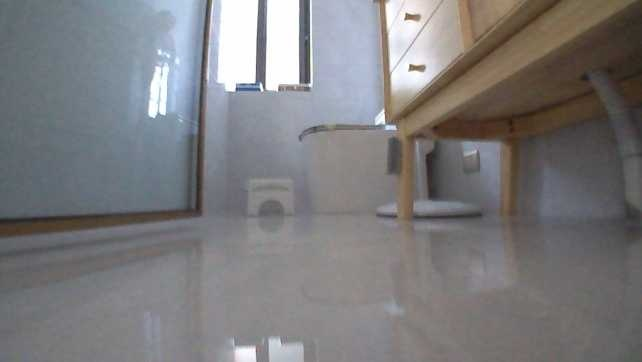chair_base: (375, 193, 485, 219)
plastic_stool: (244, 175, 298, 216)
toilet: (298, 105, 401, 215)
washstand: (375, 0, 642, 221)
